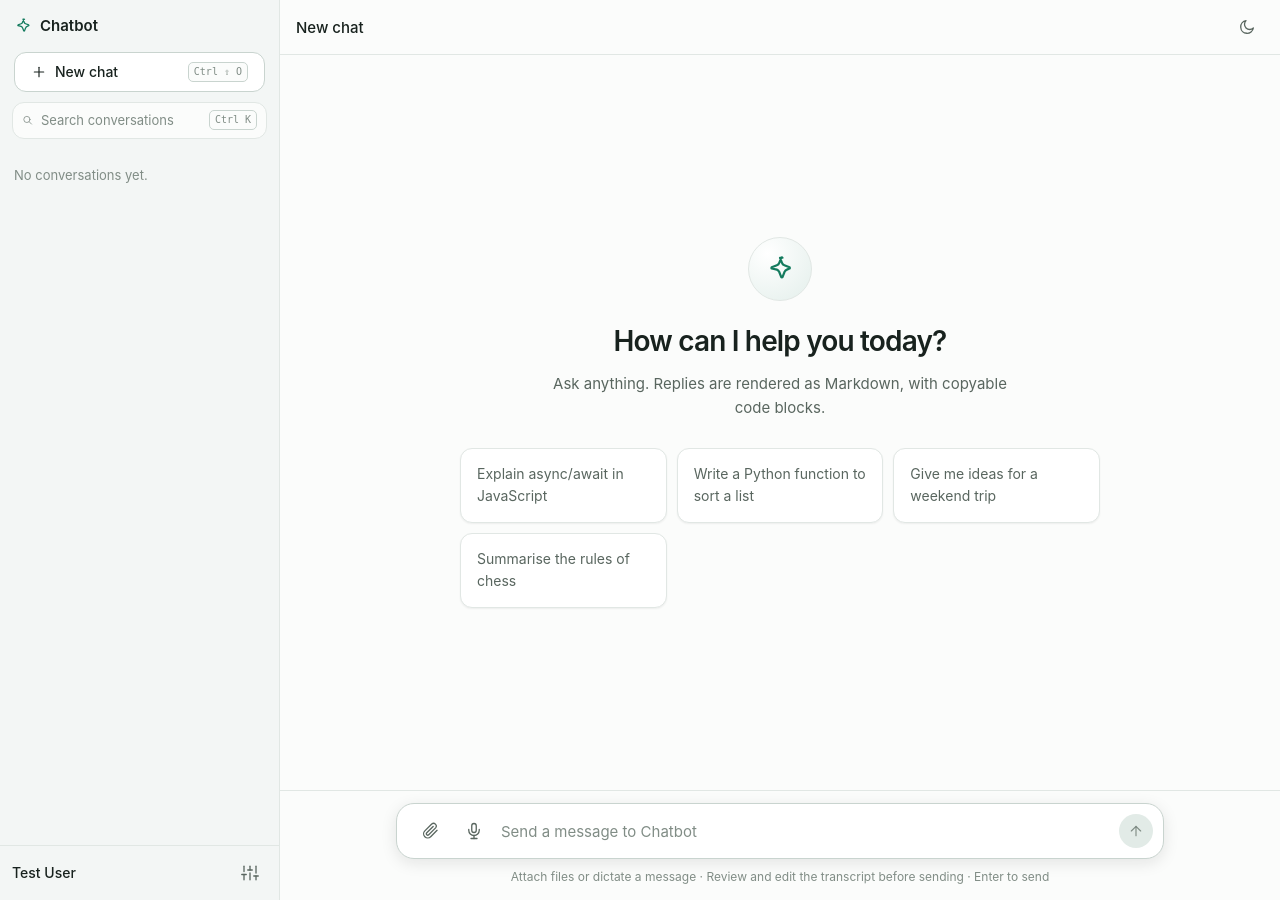
App › persists the user message before requesting an assistant reply
Type "Save this exchange" into the text box labelled "message" at (805, 832), box [501,817,1109,848]
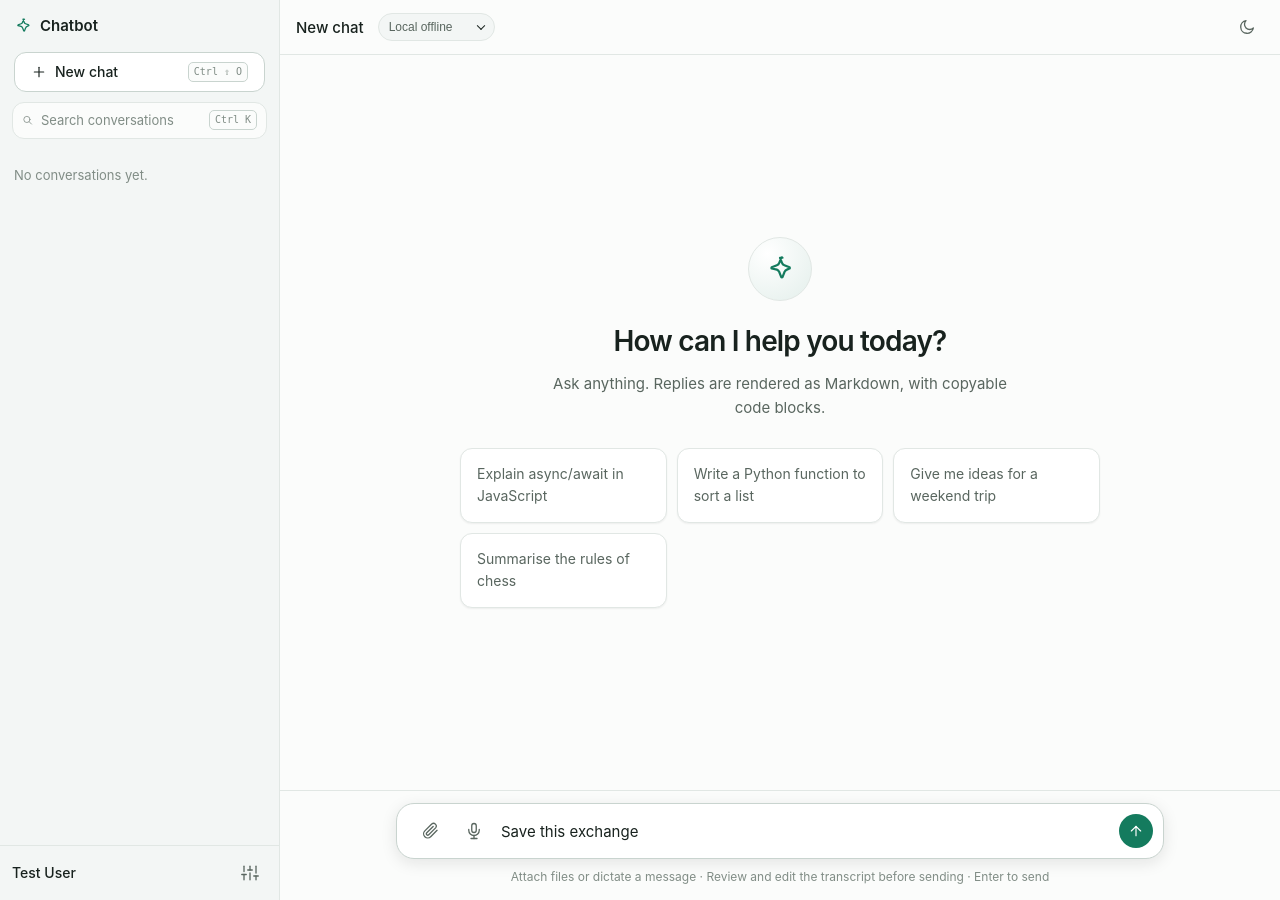
Click the button named "send" at (1136, 831), box [1119,814,1153,848]
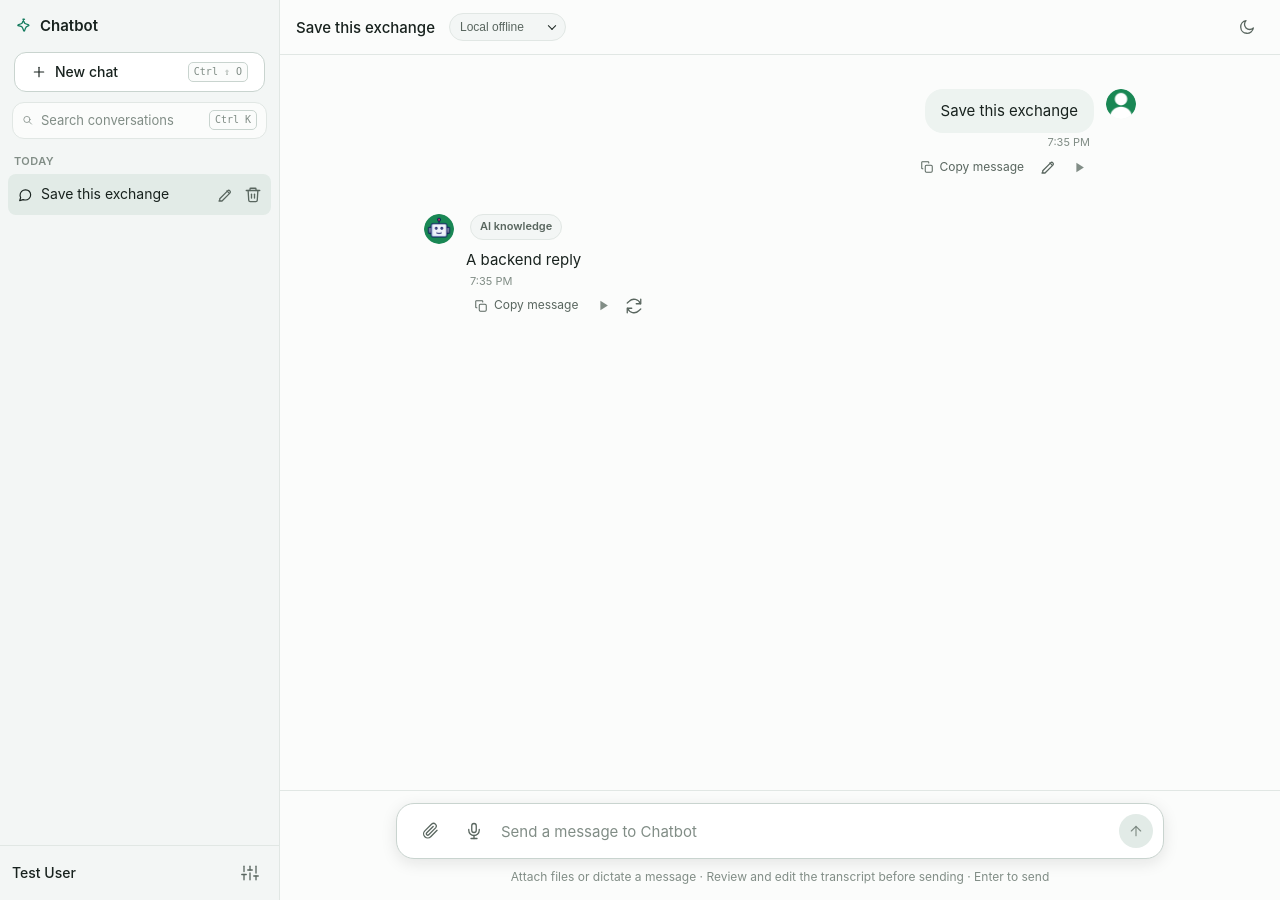
Now the text "A backend reply" is shown once, box [466,250,581,269]
